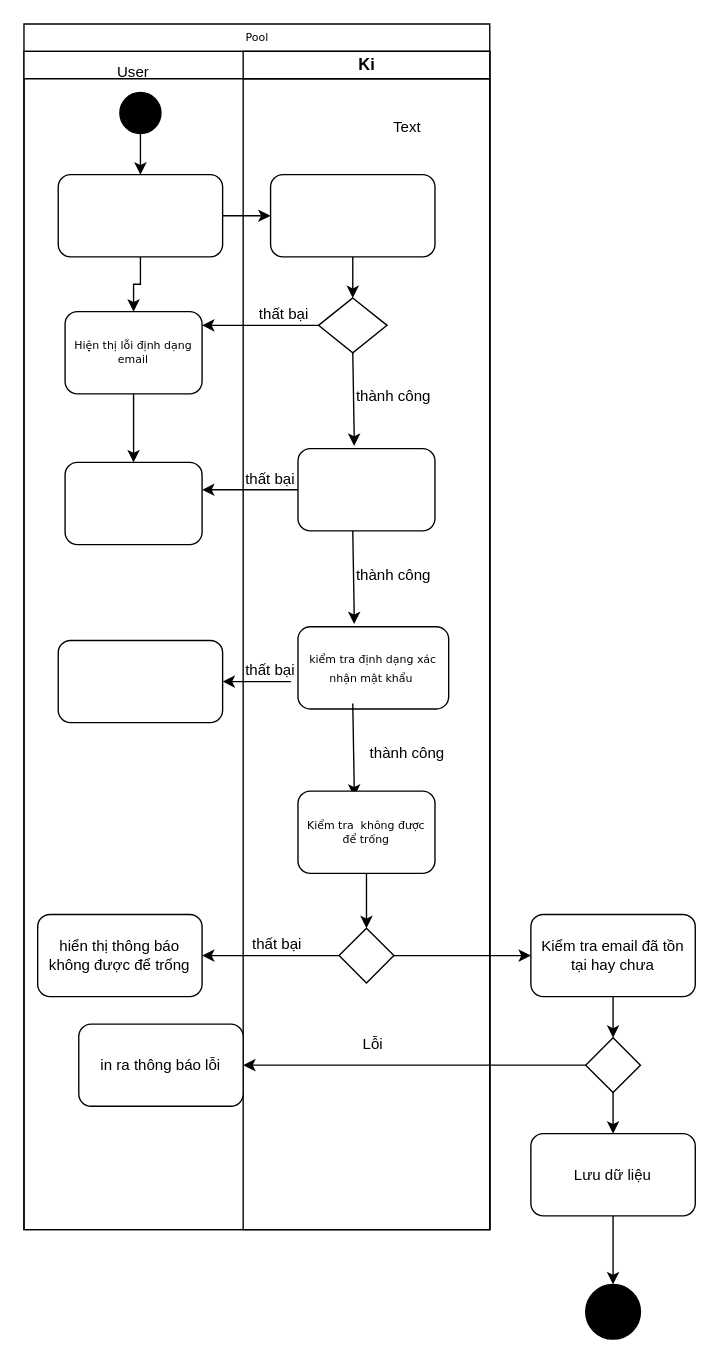
The diagram is 719 pixels wide and 1363 high, and some of its shapes have lost their labels. The shapes that lost their labels are listed below. From the top down, each one's box as (x1, y1, x2, y2) in pixels, then its label:
(57, 173, 223, 257): Nhập dữ liệu
(269, 173, 435, 257): Kiểm tra định dạng email
(64, 461, 202, 545): hiển thị lỗi mật khẩu
(297, 447, 435, 531): kiểm tra định dạng mật khẩu
(57, 639, 223, 723): hiển thị lỗi định dạng
